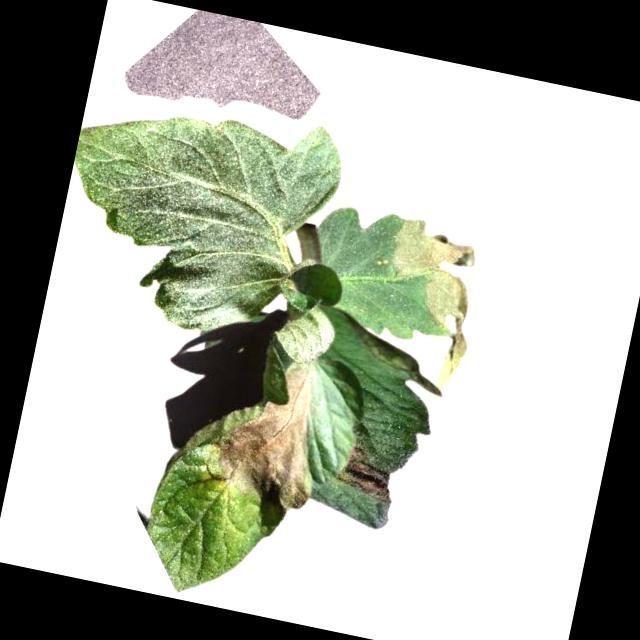Late_blight: (207, 354, 334, 513), (370, 214, 491, 368), (331, 442, 400, 504)
